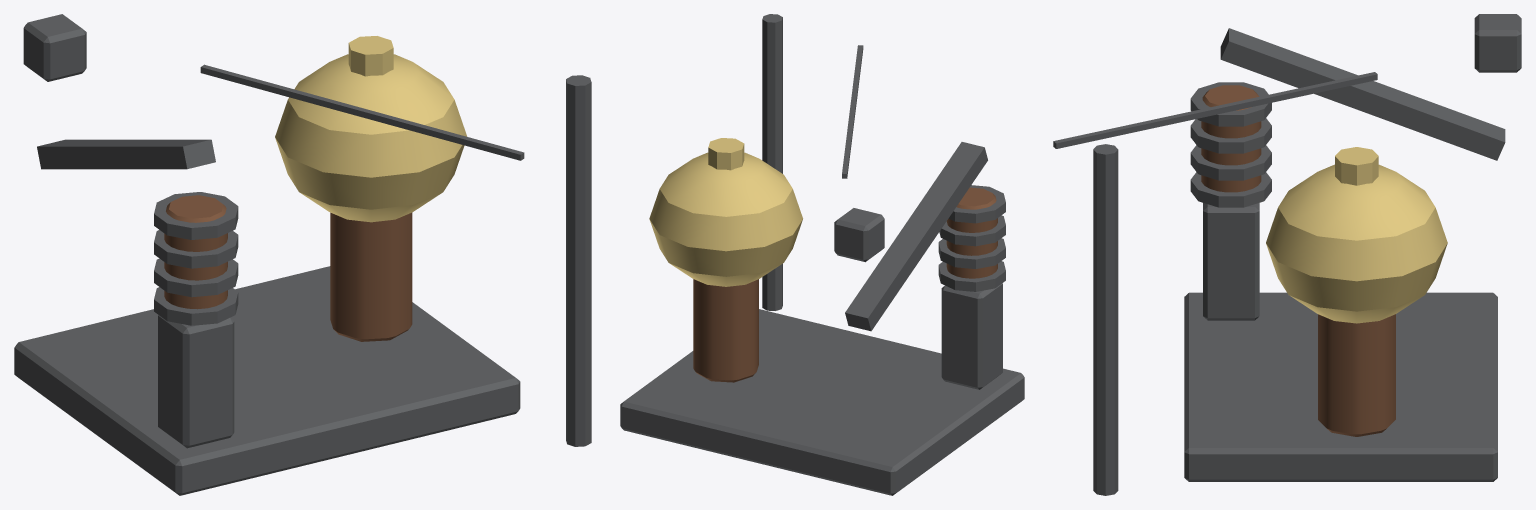
Rendered from NoiseTrap.fbx.
3 renders of one model, left to right at view 1: azimuth 30°, elevation 25°; view 2: azimuth 150°, elevation 25°; view 3: azimuth 270°, elevation 25°, orthographic. The views are drawn at different scales.
Parts seen in each view (by area): view 1: NoiseTrap; view 2: NoiseTrap; view 3: NoiseTrap.
Part boxes in pixels (x1=…): NoiseTrap: x1=14, y1=14, x2=591, y2=495; NoiseTrap: x1=620, y1=14, x2=1024, y2=495; NoiseTrap: x1=1053, y1=14, x2=1521, y2=495.
Size of the model in its own units: 25.8 by 24 by 29.84.
